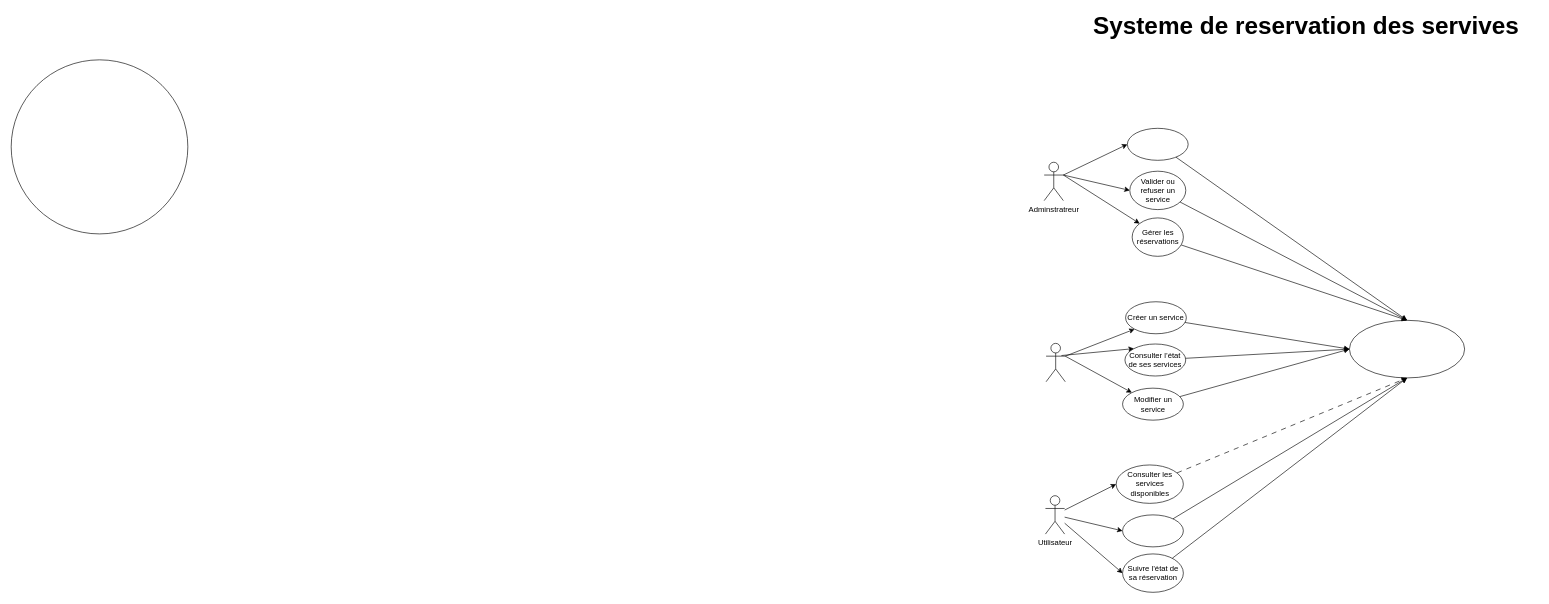
Some shapes in this 1549 by 604 pixel diagram are drawn without their labels. Here are the shapes that lost their labels. From the top down, the centre of each, then its label:
At pixel 1157 144: "Consulter les services proposés".
At pixel 1055 362: "Provider".
At pixel 1407 349: "Se connecter".
At pixel 1152 530: "Réserver un service".
